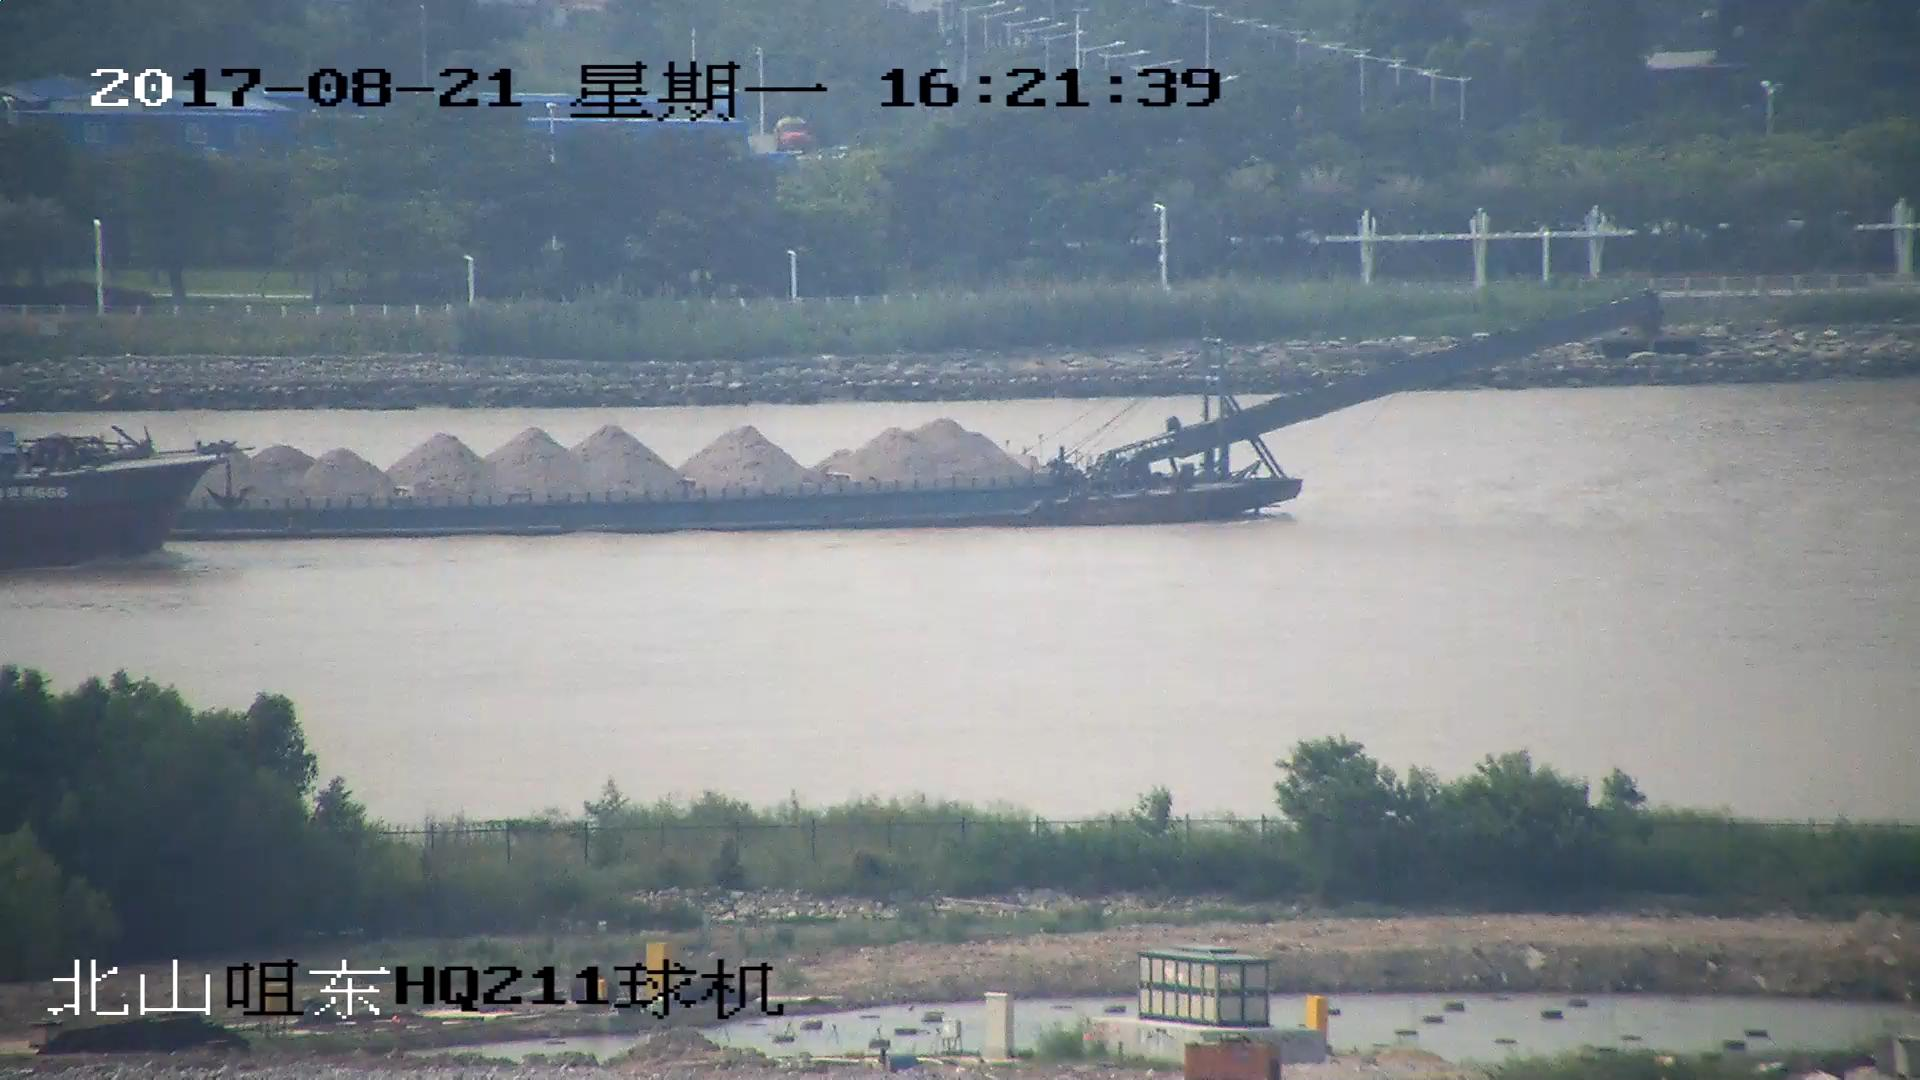bulk cargo carrier: (1, 442, 231, 566)
ore carrier: (1, 291, 1661, 534)
